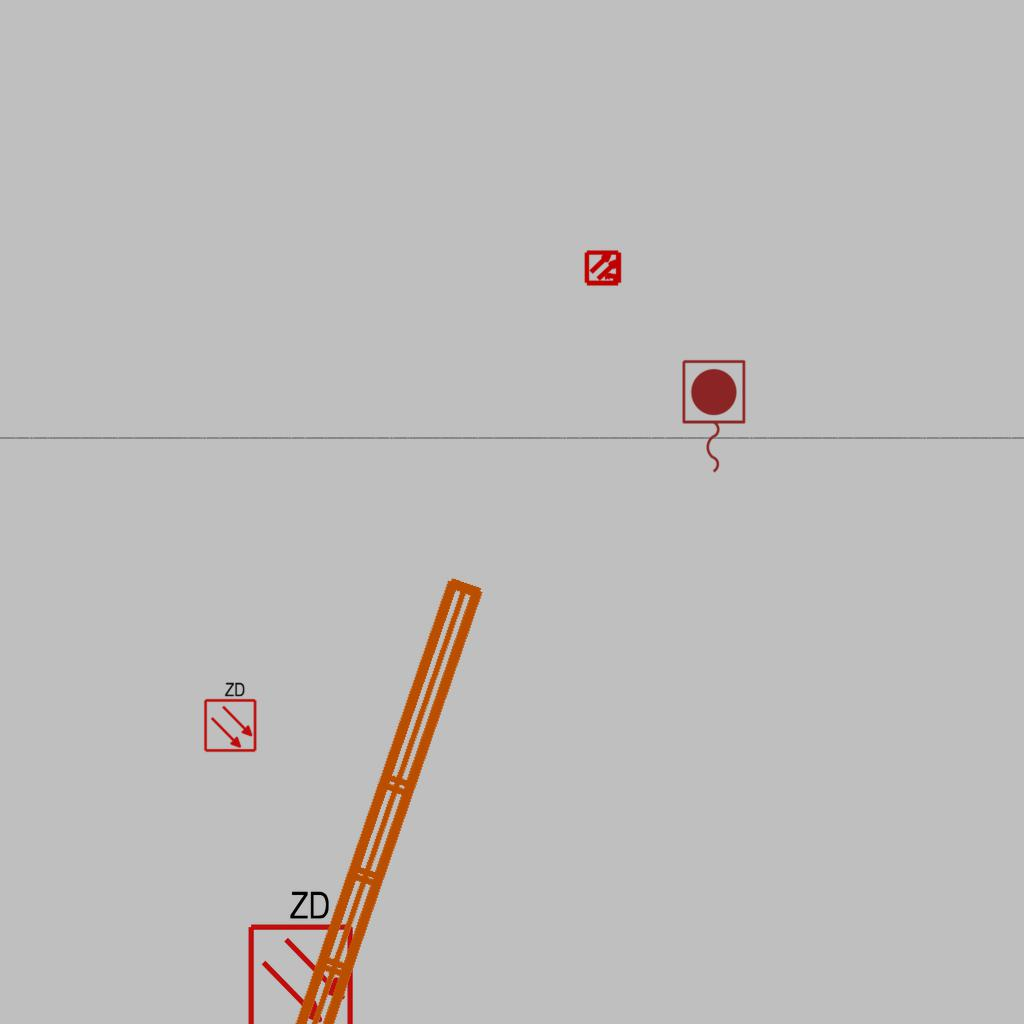Ambulanz_Pendelleuchte_LED: (189, 562, 547, 1024)
OT_Multisensormelder_(Kombination_RMO_WMD): (576, 240, 632, 296)
ZD_Melder_in_Zwischendecke_mit_Revisionsoeffnung_mind_40_x_40_cm: (242, 884, 356, 1024), (201, 679, 258, 753)
Zugtaster: (677, 356, 749, 478)
